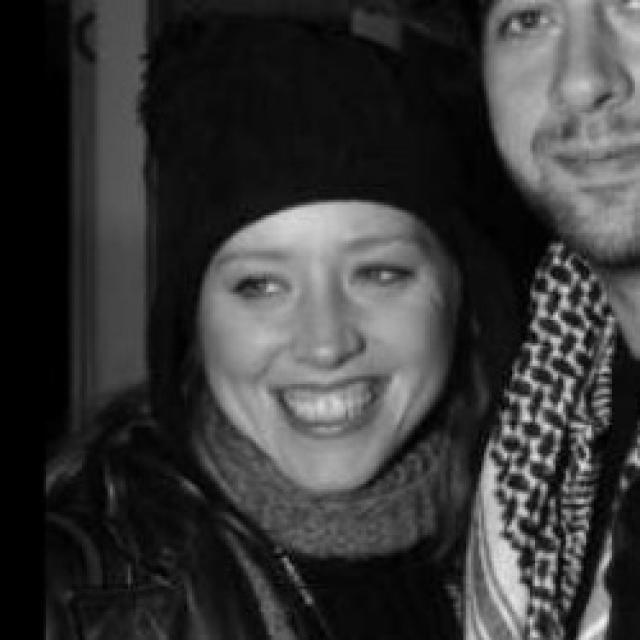real: (186, 198, 452, 490), (475, 0, 640, 270), (225, 242, 415, 305), (497, 2, 640, 45)
